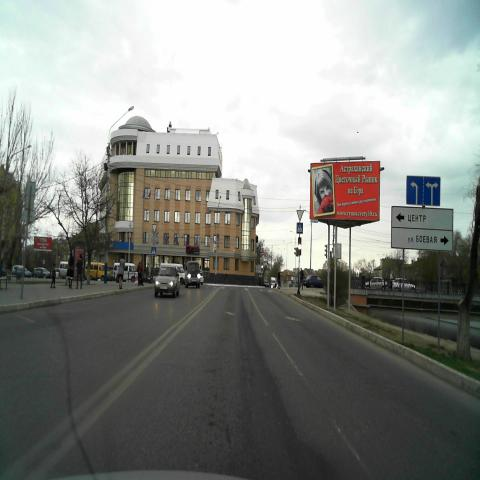5_15_2_2: (406, 175, 441, 206)
